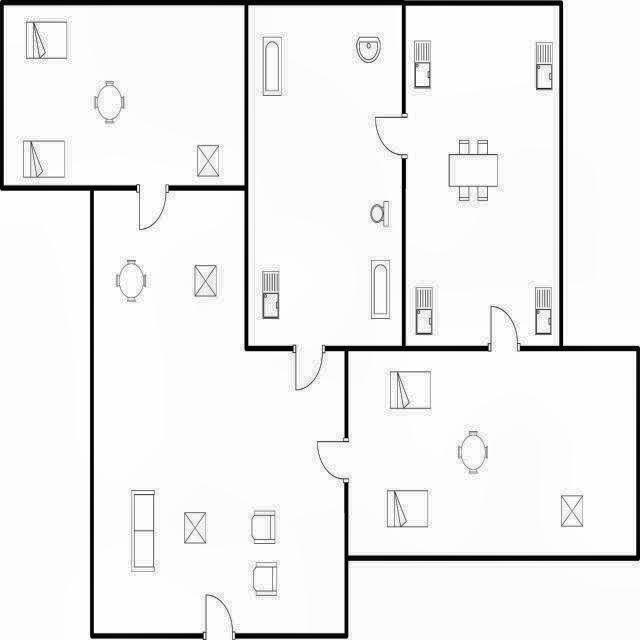room: (94, 191, 345, 633), (348, 351, 636, 556), (248, 5, 402, 346), (406, 6, 559, 346), (4, 5, 245, 185)
